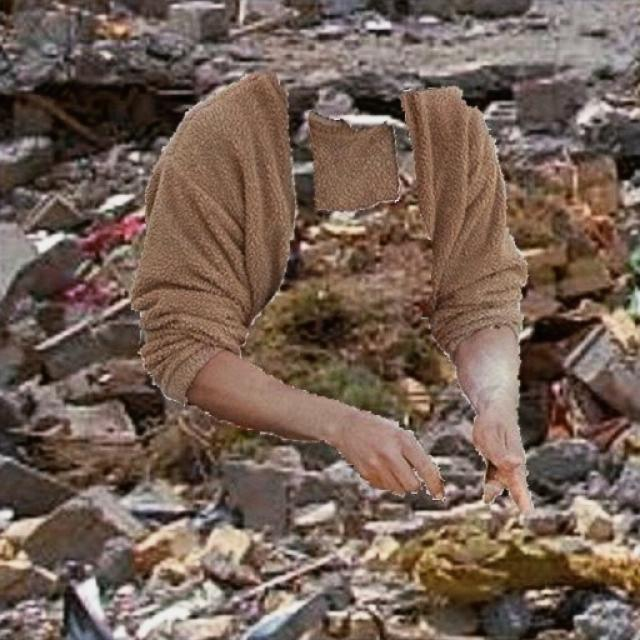Person in Rubble: (132, 74, 532, 510)
